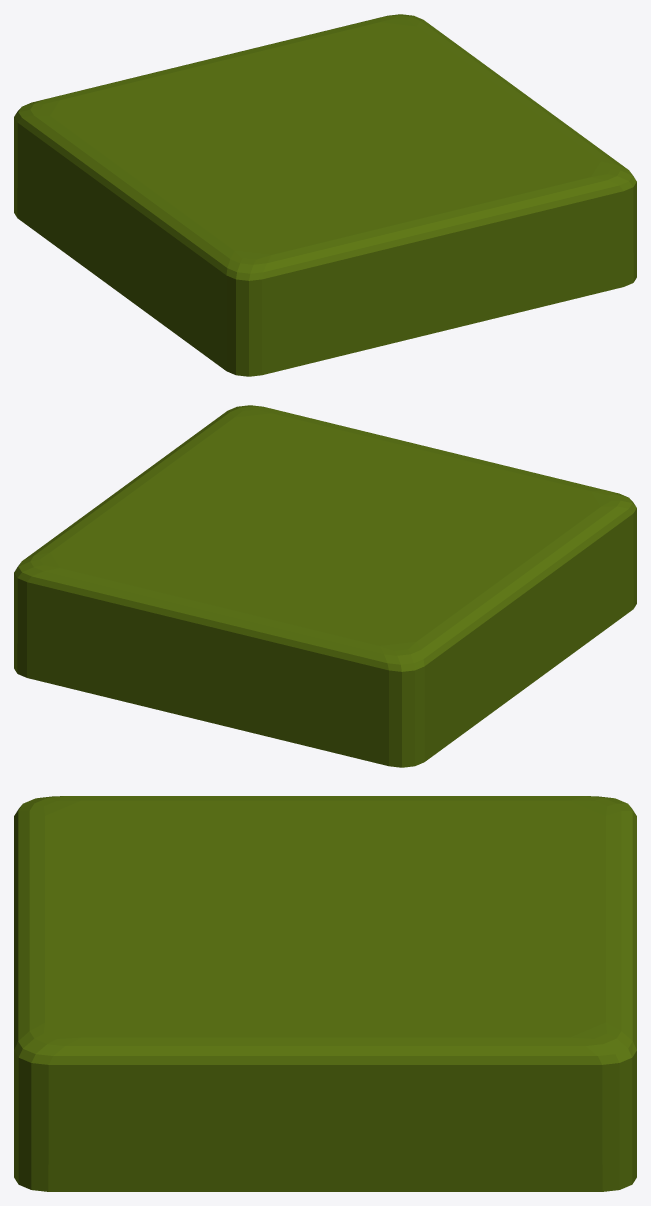
Rendered from DarkTop.fbx.
3 views of the same model, one above another, from view 1: azimuth 30°, elevation 25°; view 2: azimuth 150°, elevation 25°; view 3: azimuth 270°, elevation 25° (orthographic). The views are drawn at different scales.
Visible parts, largest first — view 1: DarkTop; view 2: DarkTop; view 3: DarkTop.
Boxes of the visible parts, <box> form: DarkTop: <box>14,14,636,376</box>; DarkTop: <box>14,405,636,767</box>; DarkTop: <box>14,796,636,1191</box>.
Size of the model in its own units: 100 by 25 by 100.
